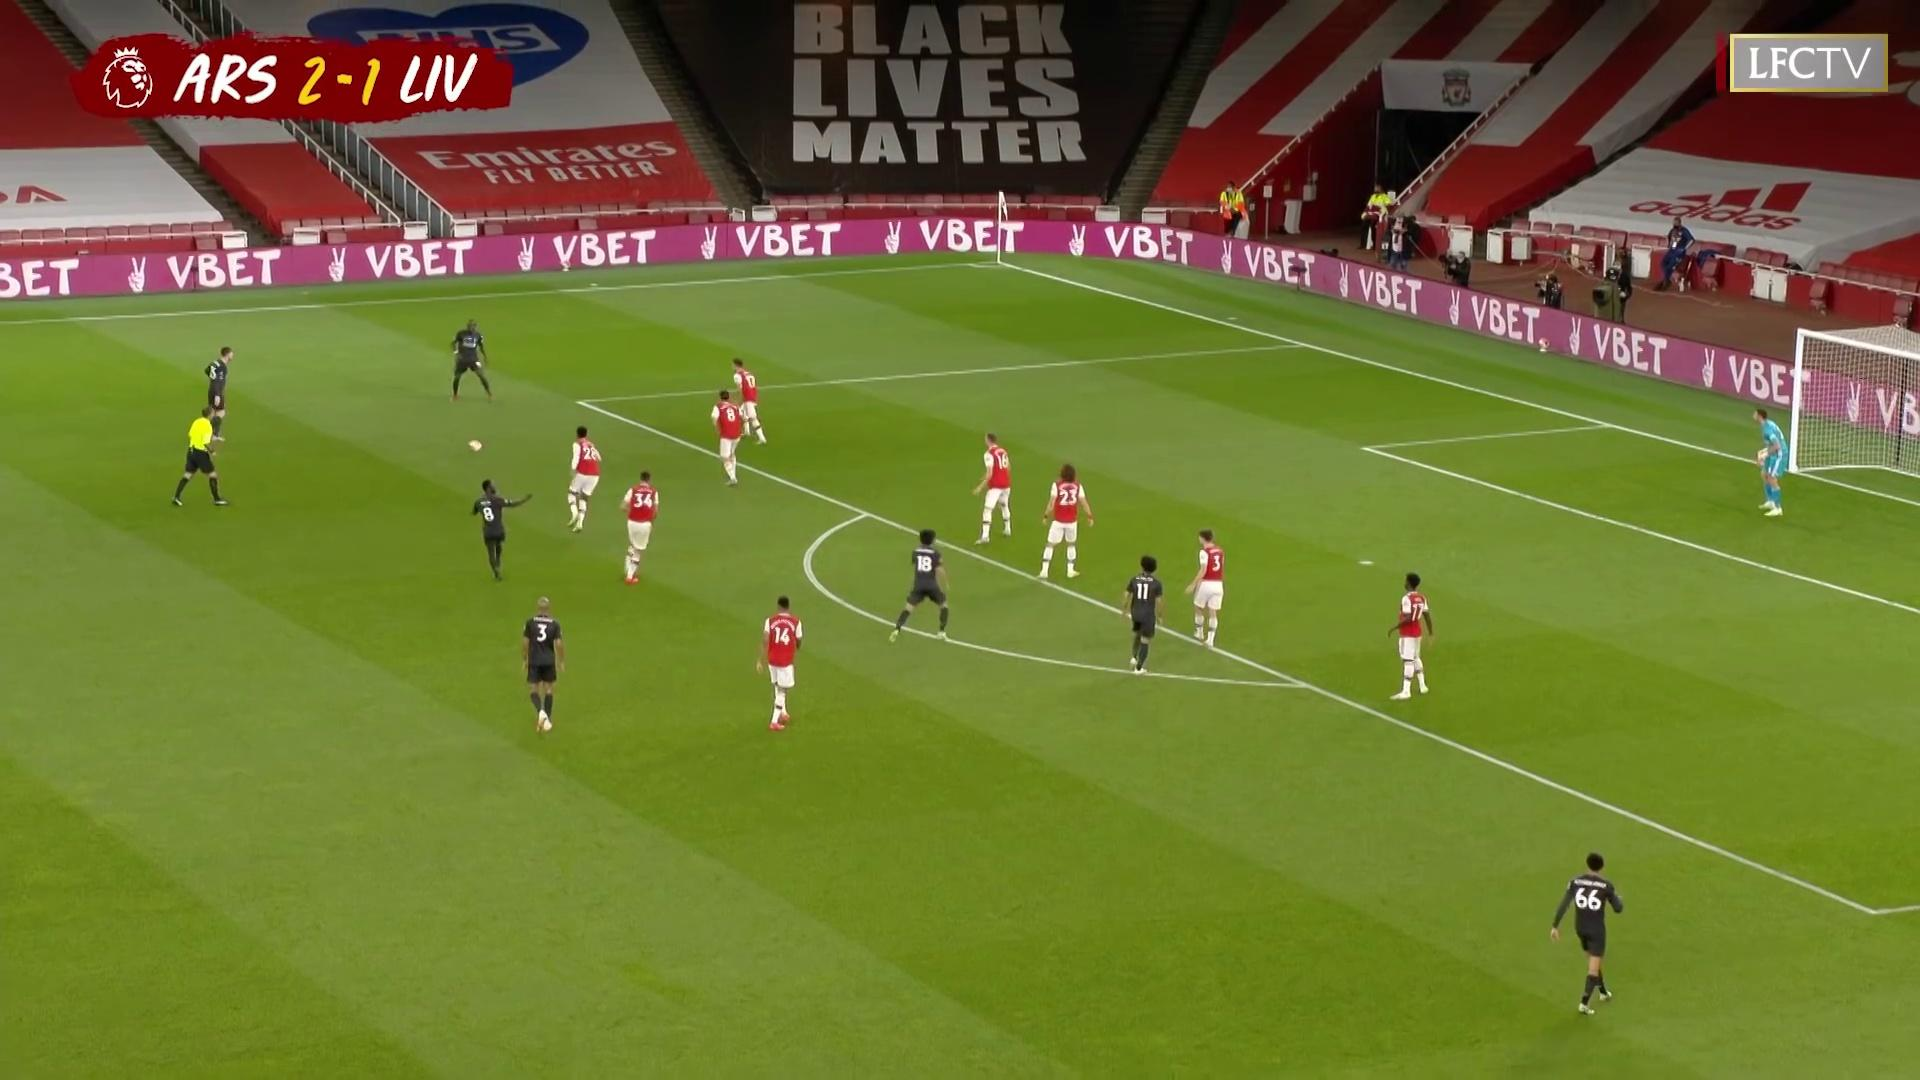ball: (468, 438, 484, 454)
